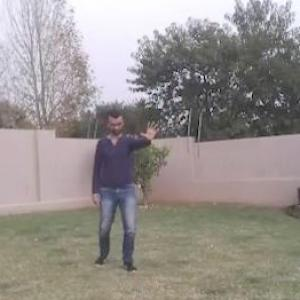follow_hand: (137, 116, 165, 143)
